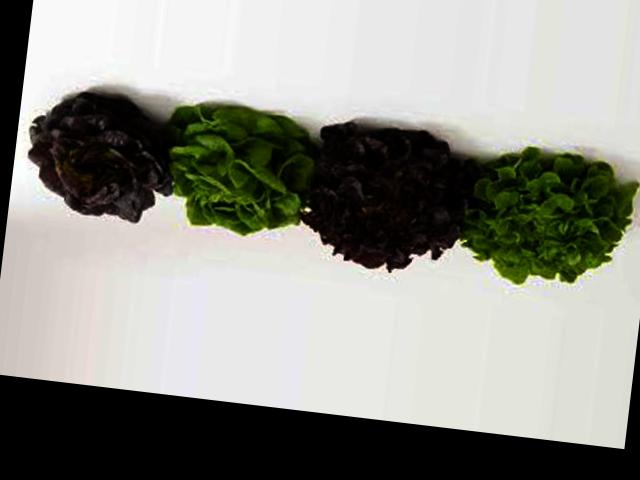lettuce: (168, 97, 318, 235)
